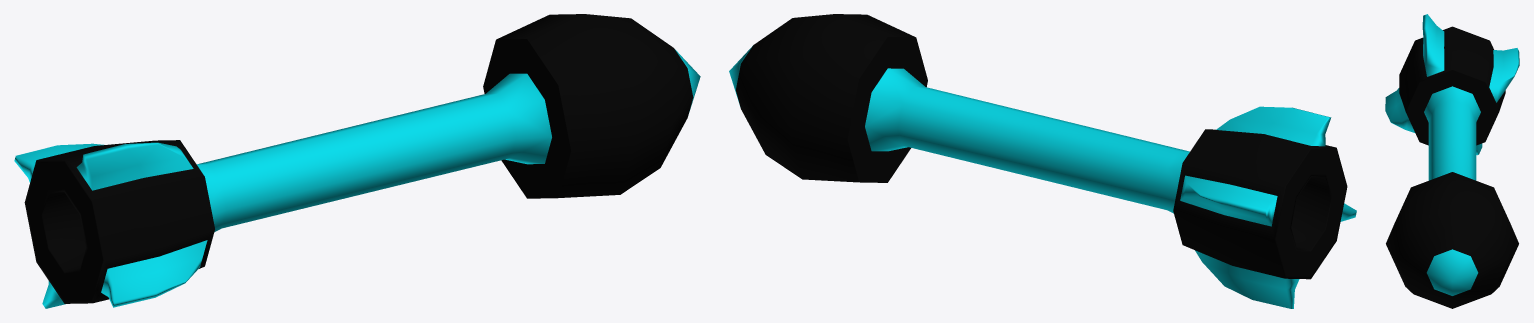
File: SM_Rocket.fbx
3 renders of one model, left to right at view 1: azimuth 30°, elevation 25°; view 2: azimuth 150°, elevation 25°; view 3: azimuth 270°, elevation 25°, orthographic. The views are drawn at different scales.
Parts seen in each view (by area): view 1: Projectile_Rocket; view 2: Projectile_Rocket; view 3: Projectile_Rocket.
Part boxes in pixels (x1,y1,x2,y2): Projectile_Rocket: [14, 14, 700, 308]; Projectile_Rocket: [729, 14, 1356, 308]; Projectile_Rocket: [1385, 14, 1519, 308].
Size of the model in its own units: 11 by 3.02 by 3.02.
